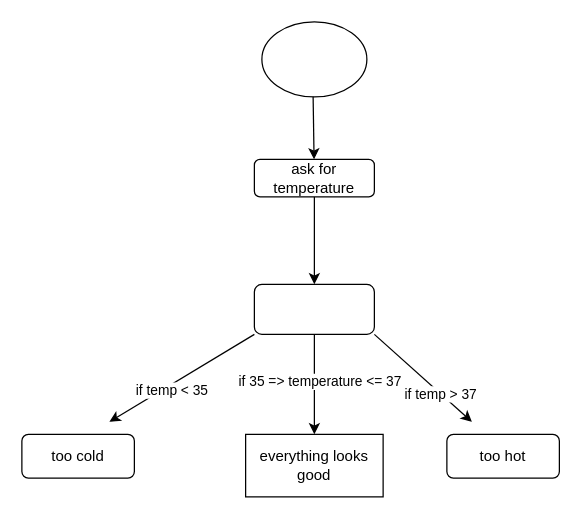
Image size: 581x519. Some labels were removed from this diagram. The shapes that lost their labels are listed below. From the top down, each one's centre as x and y in pixels, then its label:
At [314,59]: "START".
At [313,308]: "Get temperature".
